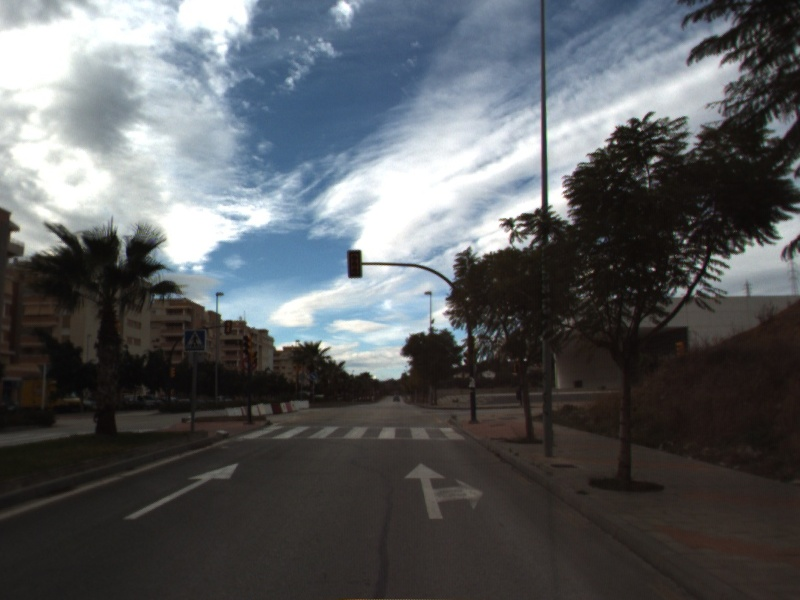STRAIGHT: (122, 461, 240, 521)
STRAIGHT_RIGHT: (402, 460, 486, 521)
